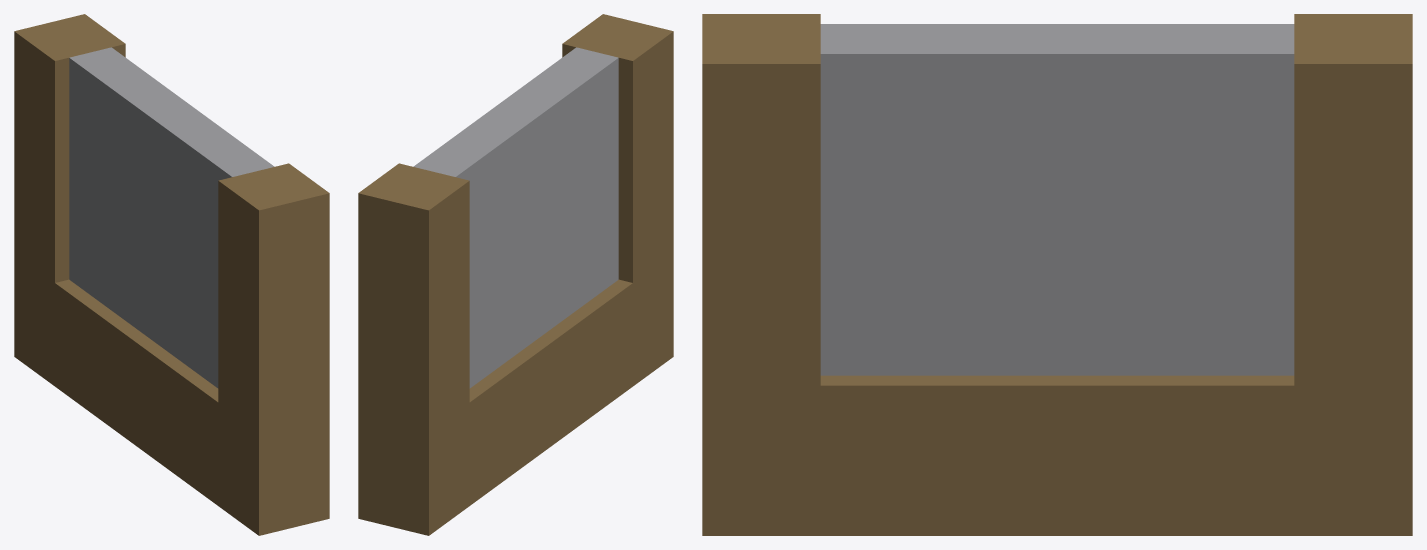
Rendered from Wood_Border_Wall_01.obj.
3 views of the same model, side by side, from view 1: azimuth 30°, elevation 25°; view 2: azimuth 150°, elevation 25°; view 3: azimuth 270°, elevation 25° (orthographic). The views are drawn at different scales.
Parts seen in each view (by area): view 1: Mesh1_Wood_Border_Wall_Model; view 2: Mesh1_Wood_Border_Wall_Model; view 3: Mesh1_Wood_Border_Wall_Model.
Part boxes in pixels (<box>): Mesh1_Wood_Border_Wall_Model: <box>14,14,329,535</box>; Mesh1_Wood_Border_Wall_Model: <box>358,14,673,535</box>; Mesh1_Wood_Border_Wall_Model: <box>702,14,1412,535</box>.
Size of the model in its own units: 0.5 by 2.2 by 3.
